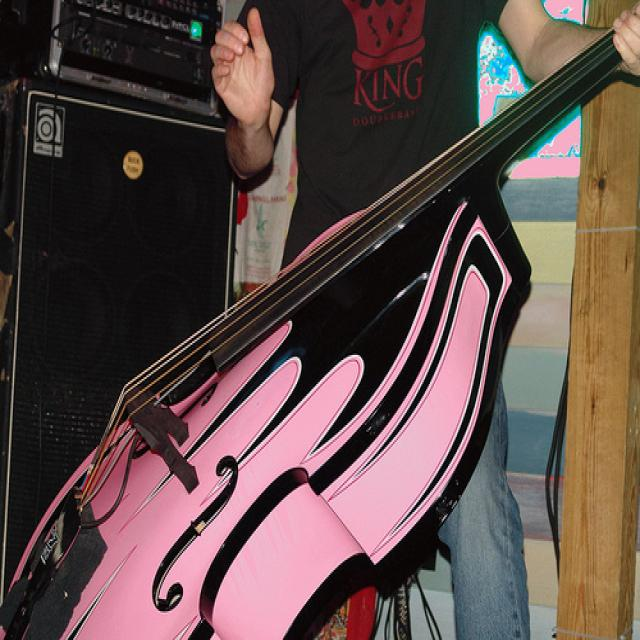person: (208, 1, 639, 639)
